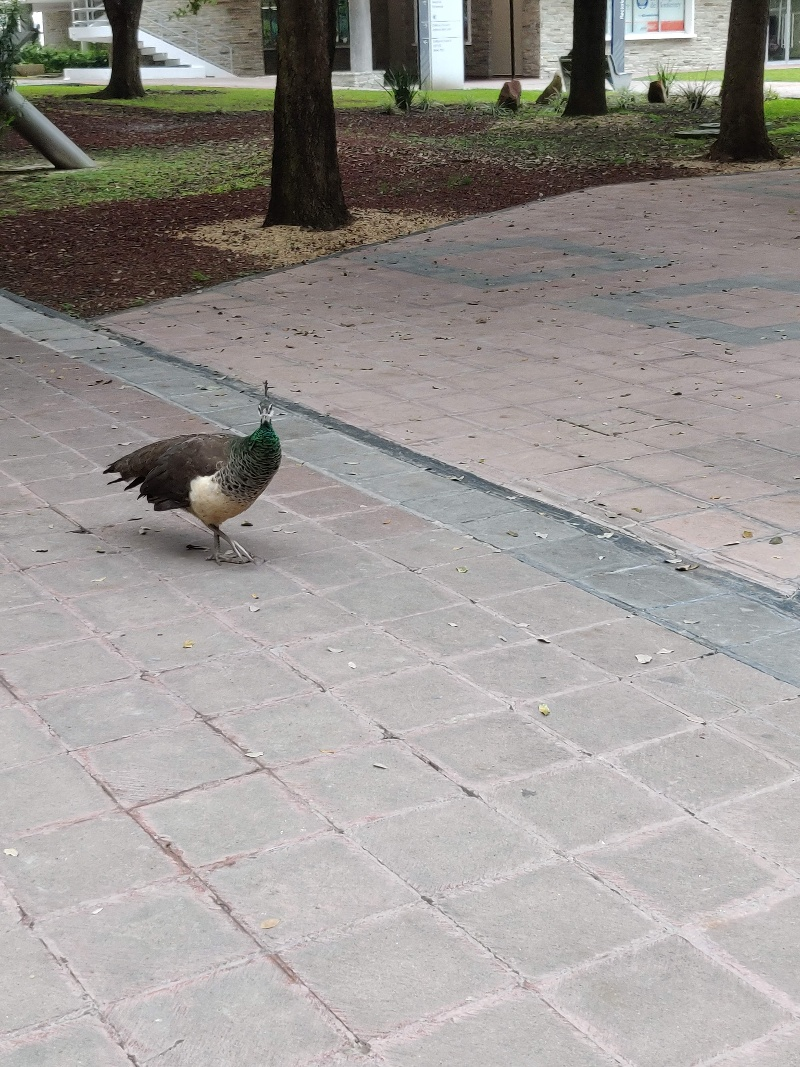pavoreal: (135, 384, 282, 576)
